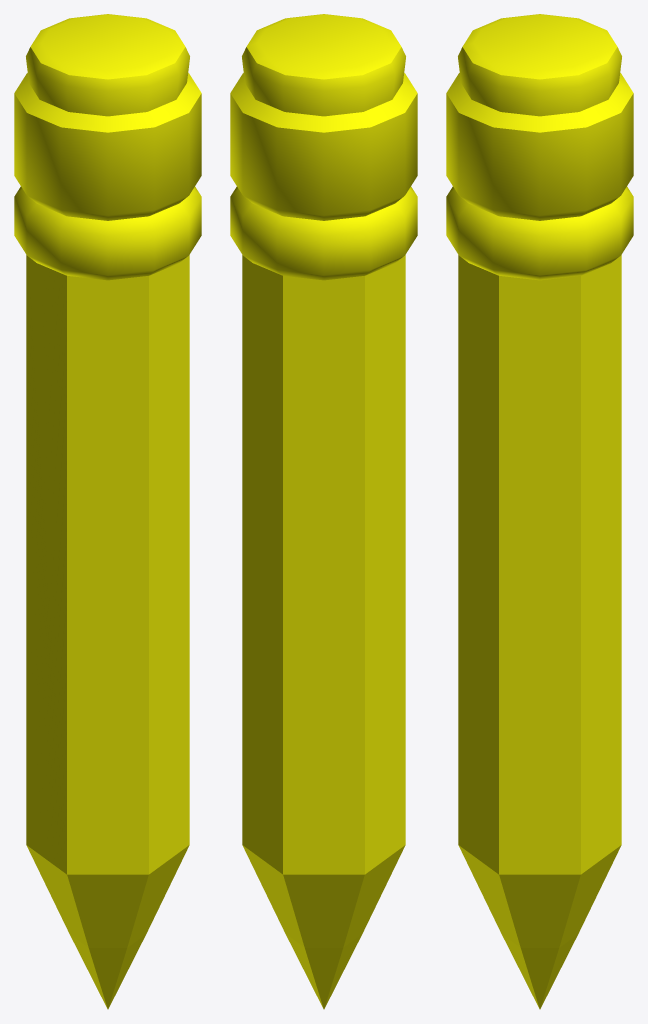
File: kaykit-pencil-b-long.glb
3 renders of one model, left to right at view 1: azimuth 30°, elevation 25°; view 2: azimuth 150°, elevation 25°; view 3: azimuth 270°, elevation 25°, orthographic.
Parts seen in each view (by area): view 1: pencil_B_long; view 2: pencil_B_long; view 3: pencil_B_long.
Part boxes in pixels (<box>): pencil_B_long: <box>14,14,201,1009</box>; pencil_B_long: <box>230,14,417,1009</box>; pencil_B_long: <box>446,14,633,1009</box>.
Bounding box in the file's own units: 0.1138 × 0.6485 × 0.1138.
